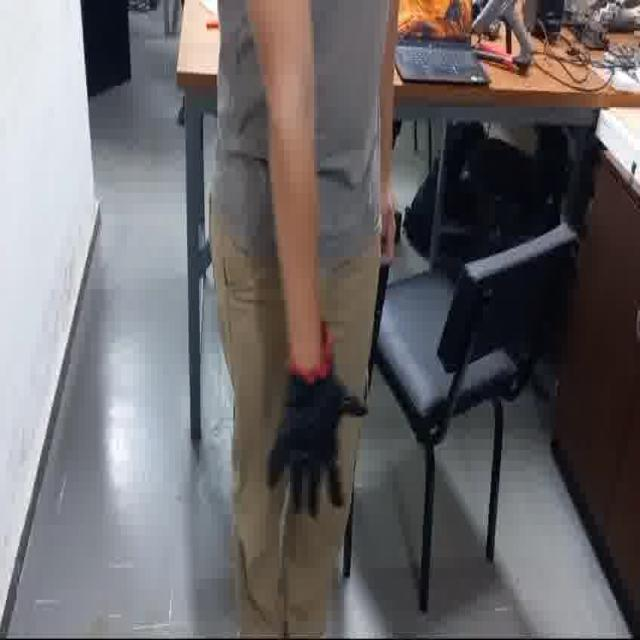Gloves: (264, 344, 368, 526)
